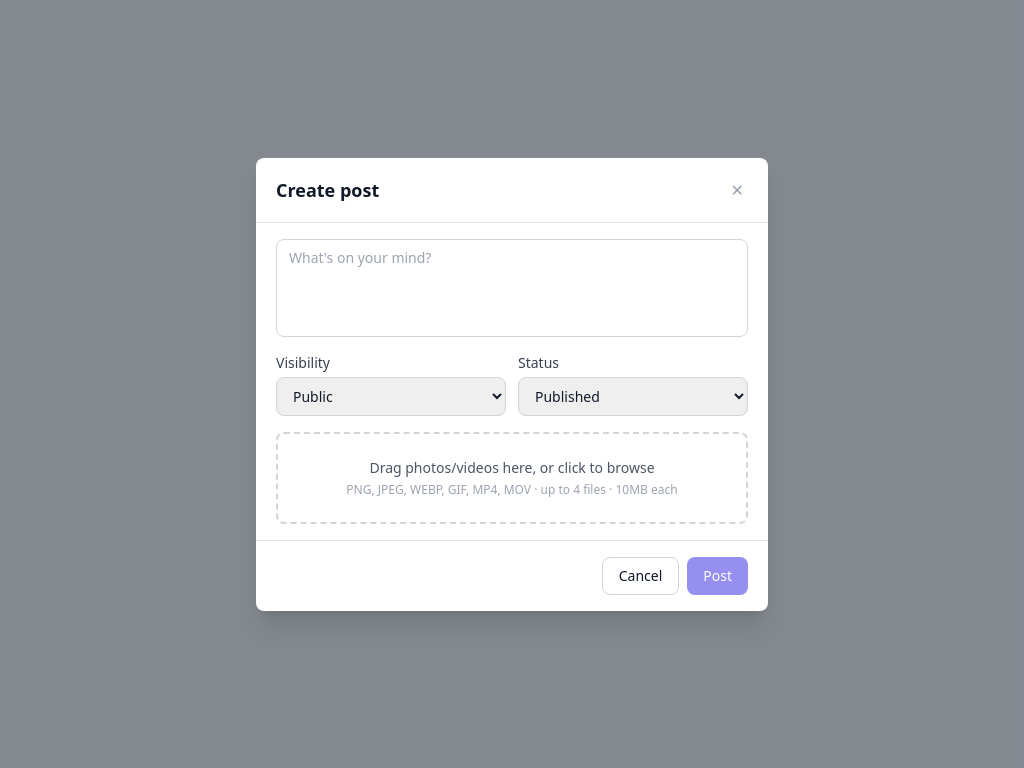
Test: PostComposerModal › enables Post once content is typed
Type "hello world" into the text box named "Content" at {"x": 512, "y": 288}, box [276, 238, 748, 336]
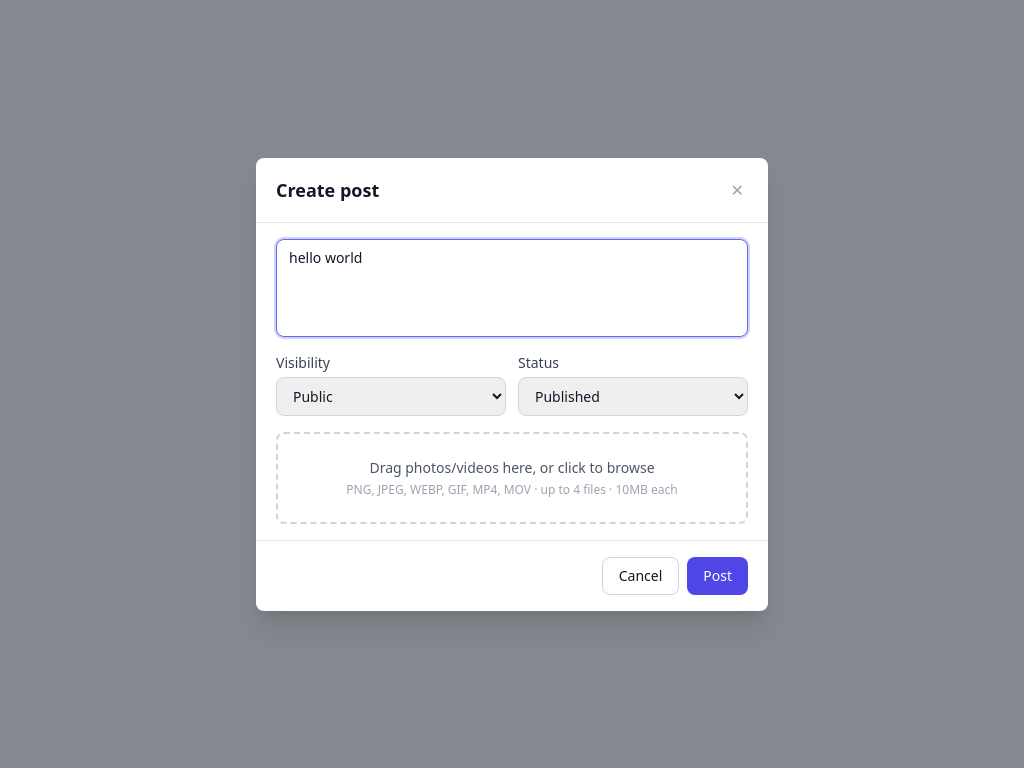
Expected: the button "Post" is enabled, [687, 556, 748, 594]
